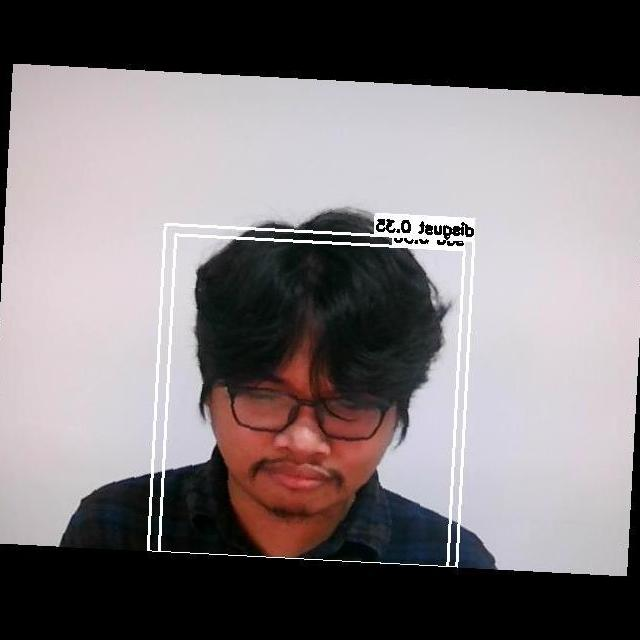Sad: (205, 347, 404, 526)
